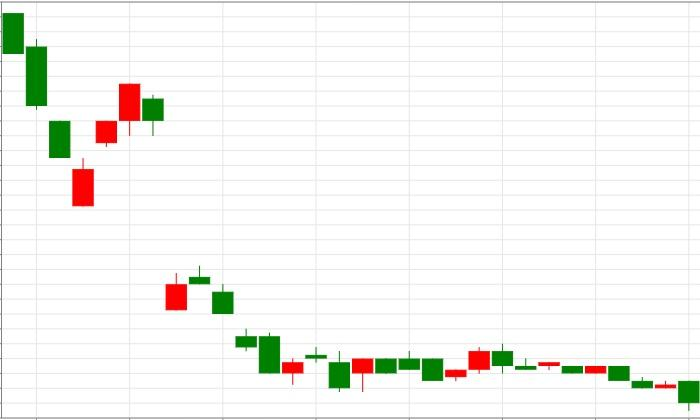three_white_soldiers_rise: (2, 12, 140, 206)
